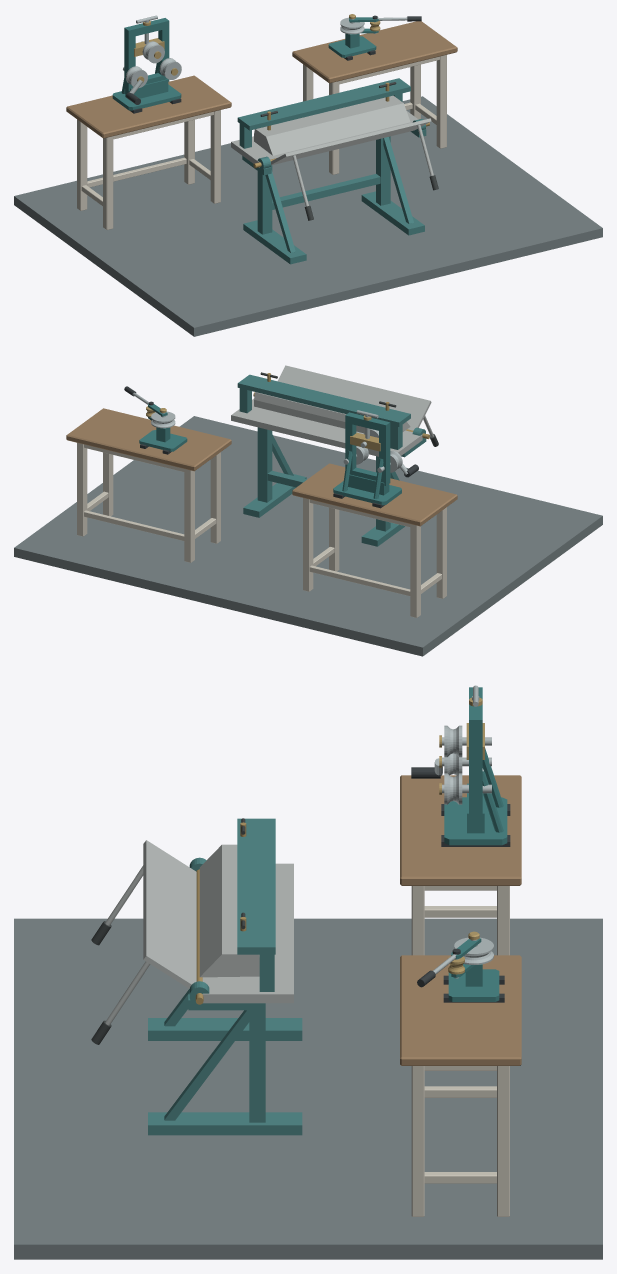
3 renders of one model, top to bottom at view 1: azimuth 30°, elevation 25°; view 2: azimuth 150°, elevation 25°; view 3: azimuth 270°, elevation 25°, orthographic. The views are drawn at different scales.
Visible parts, largest first — view 1: SceneOnlyFormingCornerFloor, right_table__Complete work surface, brake__WholeBevelledClampNose, left_table__Complete work surface, brake__WholeUpperClampBridge, roller__WholeContinuousSlottedUpright, brake__WholeRaisedFrontApron, brake__WholeLowerLongitudinalTie, left_table__Worktable leg, left_table__Worktable leg.002, right_table__Worktable leg.002, brake__WholeTransverseGroundSoleLeft (+13 smaller); view 2: SceneOnlyFormingCornerFloor, right_table__Complete work surface, left_table__Complete work surface, brake__WholeRaisedFrontApron, brake__WholeWideFixedBed, brake__WholeUpperClampBridge, roller__WholeContinuousSlottedUpright, brake__WholeBevelledClampNose, brake__WholeFrameUprightRight, left_table__Worktable leg.001, right_table__Worktable leg.001, left_table__Worktable leg.003 (+15 smaller); view 3: SceneOnlyFormingCornerFloor, right_table__Complete work surface, left_table__Complete work surface, brake__WholeRaisedFrontApron, brake__WholeBevelledClampNose, brake__WholeUpperClampBridge, brake__WholeWideFixedBed, brake__WholeTransverseGroundSoleRight, brake__WholeTransverseGroundSoleLeft, right_table__Worktable leg.002, roller__WholeLowMountBase, brake__WholeFrameUprightRight (+9 smaller).
Boxes of the visible parts, x1=… form: SceneOnlyFormingCornerFloor: x1=14, y1=96, x2=602, y2=336; right_table__Complete work surface: x1=292, y1=21, x2=457, y2=83; brake__WholeBevelledClampNose: x1=254, y1=95, x2=410, y2=155; left_table__Complete work surface: x1=66, y1=75, x2=231, y2=138; brake__WholeUpperClampBridge: x1=237, y1=78, x2=410, y2=130; roller__WholeContinuousSlottedUpright: x1=124, y1=18, x2=169, y2=91; brake__WholeRaisedFrontApron: x1=271, y1=118, x2=431, y2=165; brake__WholeLowerLongitudinalTie: x1=272, y1=174, x2=380, y2=209; left_table__Worktable leg: x1=103, y1=136, x2=113, y2=229; left_table__Worktable leg.002: x1=210, y1=110, x2=220, y2=203; right_table__Worktable leg.002: x1=436, y1=55, x2=446, y2=148; brake__WholeTransverseGroundSoleLeft: x1=243, y1=220, x2=306, y2=264; SceneOnlyFormingCornerFloor: x1=14, y1=416, x2=602, y2=656; right_table__Complete work surface: x1=66, y1=408, x2=231, y2=471; left_table__Complete work surface: x1=292, y1=463, x2=457, y2=526; brake__WholeRaisedFrontApron: x1=278, y1=365, x2=431, y2=430; brake__WholeWideFixedBed: x1=231, y1=398, x2=422, y2=456; brake__WholeUpperClampBridge: x1=237, y1=374, x2=410, y2=426; roller__WholeContinuousSlottedUpright: x1=345, y1=412, x2=390, y2=485; brake__WholeBevelledClampNose: x1=254, y1=392, x2=410, y2=433; brake__WholeFrameUprightRight: x1=257, y1=427, x2=272, y2=502; left_table__Worktable leg.001: x1=410, y1=524, x2=420, y2=617; right_table__Worktable leg.001: x1=184, y1=469, x2=194, y2=562; left_table__Worktable leg.003: x1=303, y1=498, x2=313, y2=591; SceneOnlyFormingCornerFloor: x1=14, y1=918, x2=602, y2=1259; right_table__Complete work surface: x1=400, y1=955, x2=521, y2=1065; left_table__Complete work surface: x1=400, y1=775, x2=521, y2=885; brake__WholeRaisedFrontApron: x1=143, y1=840, x2=196, y2=988; brake__WholeBevelledClampNose: x1=199, y1=844, x2=259, y2=977; brake__WholeUpperClampBridge: x1=237, y1=818, x2=275, y2=954; brake__WholeWideFixedBed: x1=202, y1=863, x2=293, y2=1003; brake__WholeTransverseGroundSoleRight: x1=148, y1=1112, x2=302, y2=1135; brake__WholeTransverseGroundSoleLeft: x1=148, y1=1018, x2=302, y2=1040; right_table__Worktable leg.002: x1=411, y1=1066, x2=424, y2=1216; roller__WholeLowMountBase: x1=444, y1=797, x2=507, y2=845; brake__WholeFrameUprightRight: x1=249, y1=1003, x2=265, y2=1122.
Size of the model in its own units: 3.8 by 1.71 by 2.9.
